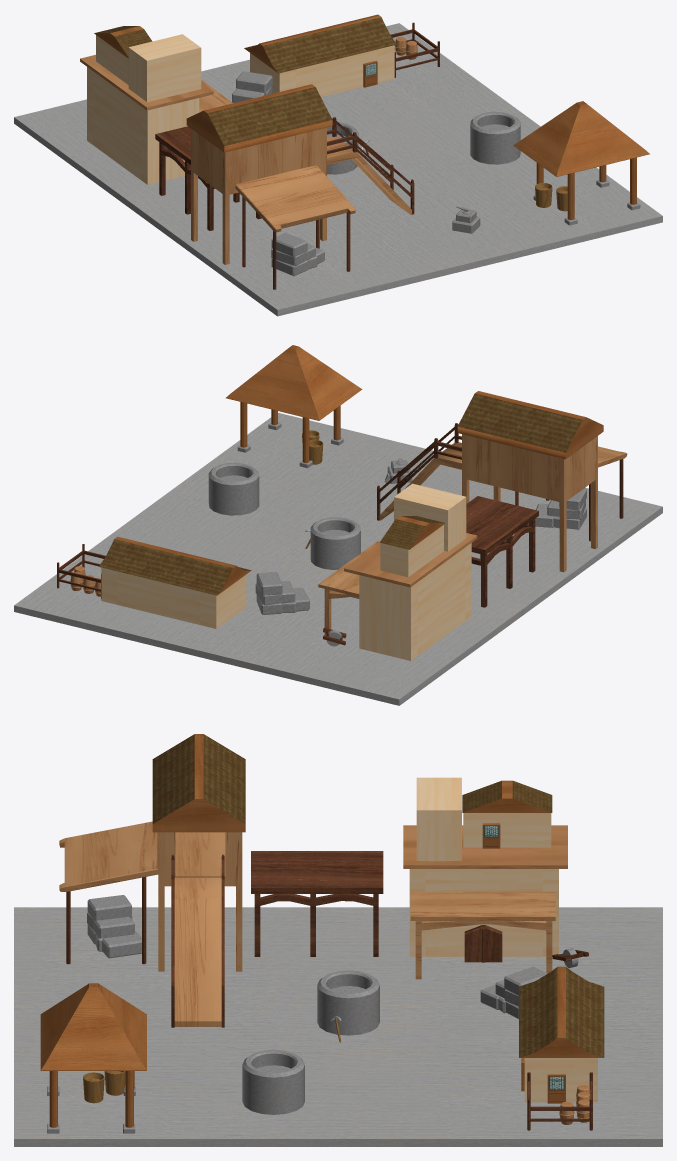
Rendered from kuangjing.fbx.
The picture shows the model from 3 angles, top to bottom: view 1: azimuth 30°, elevation 25°; view 2: azimuth 150°, elevation 25°; view 3: azimuth 270°, elevation 25°; orthographic projection. The views are drawn at different scales.
Parts seen in each view (by area): view 1: group10; view 2: group10; view 3: group10.
Part boxes in pixels (bbox=[...]): group10: bbox=[14, 14, 662, 316]; group10: bbox=[14, 345, 662, 705]; group10: bbox=[14, 734, 662, 1146].
Bounding box in the file's own units: 13.78 × 5.08 × 16.31.
